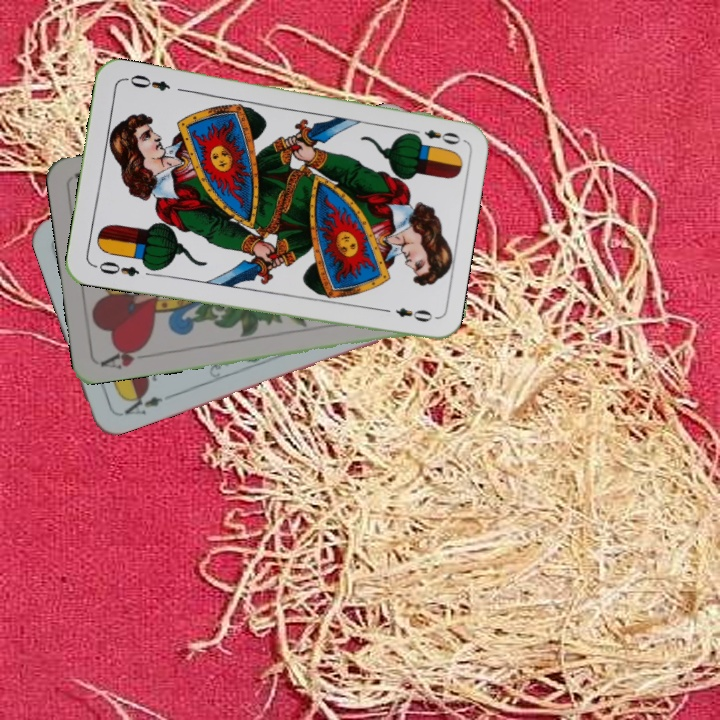EA: (116, 388, 166, 419)
EO: (405, 124, 463, 148), (90, 257, 142, 280)
HA: (97, 340, 151, 372)
